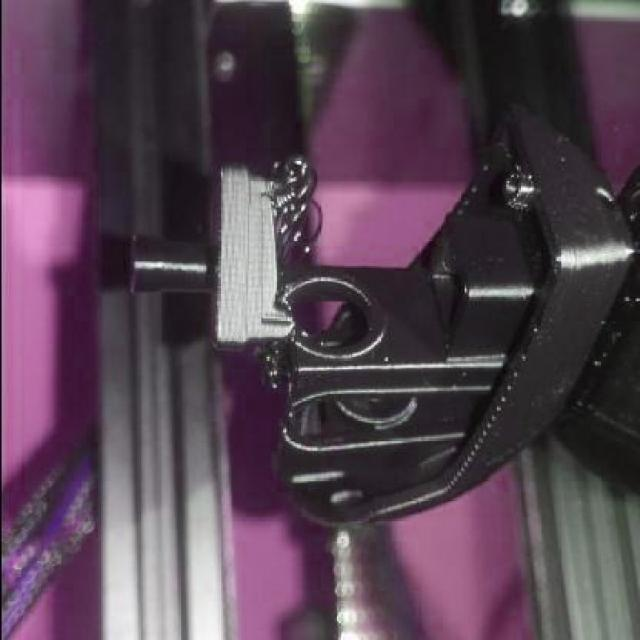spaghetti: (265, 156, 322, 275), (249, 339, 295, 393)
